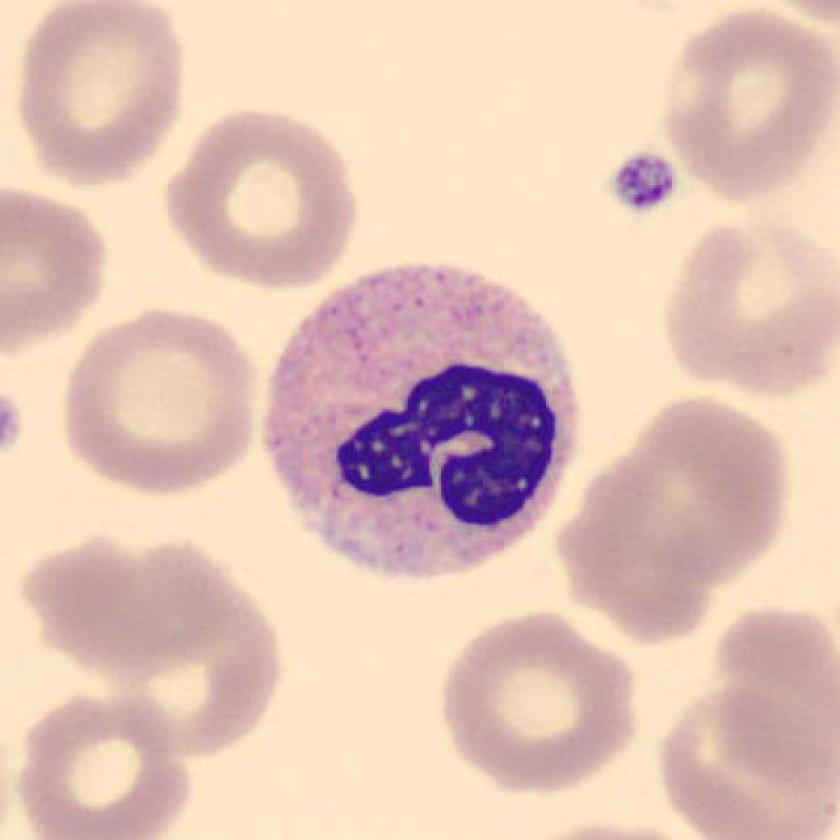neutrophil: (261, 263, 580, 576)
